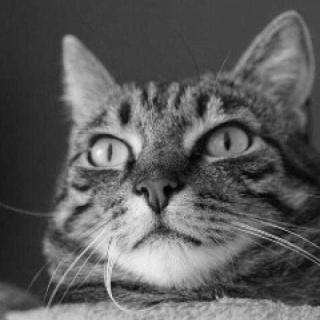cat: (53, 23, 320, 302)
nose: (131, 160, 186, 222)
